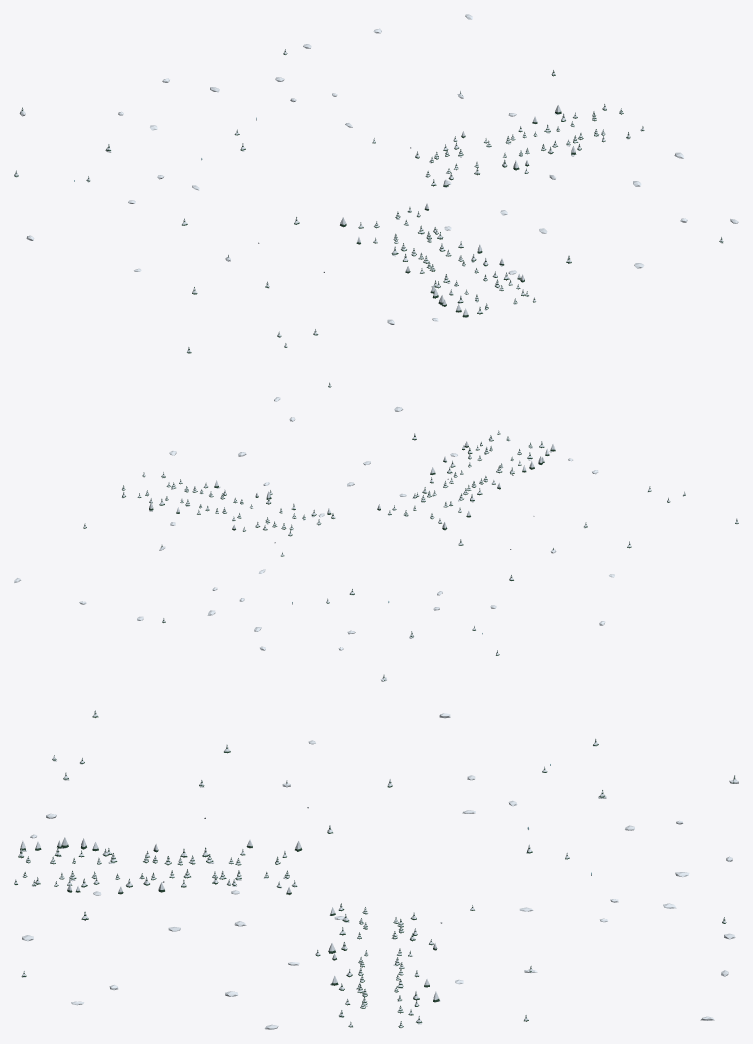
File: Fill_0_-2.fbx
3 views of the same model, one above another, from view 1: azimuth 30°, elevation 25°; view 2: azimuth 150°, elevation 25°; view 3: azimuth 270°, elevation 25° (orthographic). The views are drawn at different scales.
Visible parts, largest first — view 1: Fill_0_-2; view 2: Fill_0_-2; view 3: Fill_0_-2.
Boxes of the visible parts, x1,y1,x2,y2 form: Fill_0_-2: [14, 14, 738, 353]; Fill_0_-2: [14, 382, 738, 681]; Fill_0_-2: [14, 710, 738, 1029].
Bounding box in the file's own units: 58365 × 1869 × 56843.
